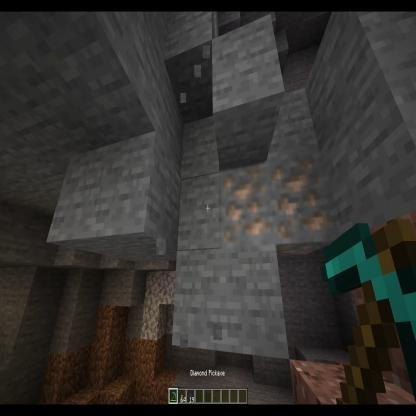iron ore: (268, 148, 331, 253), (219, 161, 272, 249)
